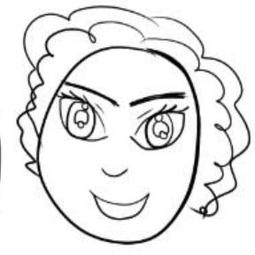eye: (125, 104, 192, 153), (55, 91, 113, 145)
eyebrow: (127, 86, 188, 107)
frowning_eyebrow: (64, 81, 121, 107)
nose: (102, 164, 130, 177)
open_mouth: (81, 183, 152, 222)
